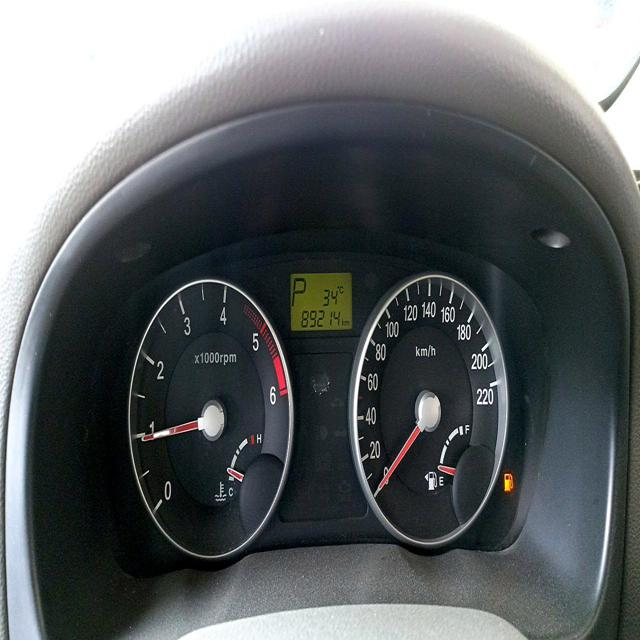odometer: (301, 306, 341, 328)
